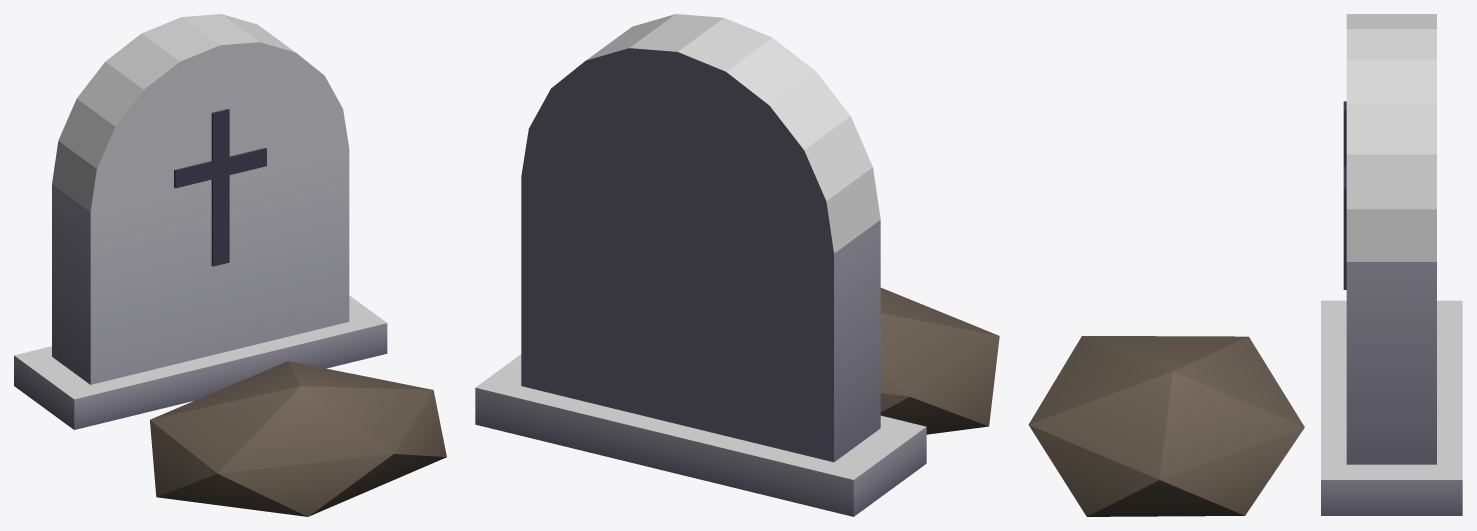
Rendered from cel_grave.glb.
3 renders of one model, left to right at view 1: azimuth 30°, elevation 25°; view 2: azimuth 150°, elevation 25°; view 3: azimuth 270°, elevation 25°, orthographic. The views are drawn at different scales.
Visible parts, largest first — view 1: grave; view 2: grave; view 3: grave.
Boxes of the visible parts, bbox=[...] form: grave: bbox=[14, 14, 446, 516]; grave: bbox=[475, 14, 999, 516]; grave: bbox=[1028, 14, 1462, 516].
Size of the model in its own units: 1.5 by 1.77 by 1.54.
